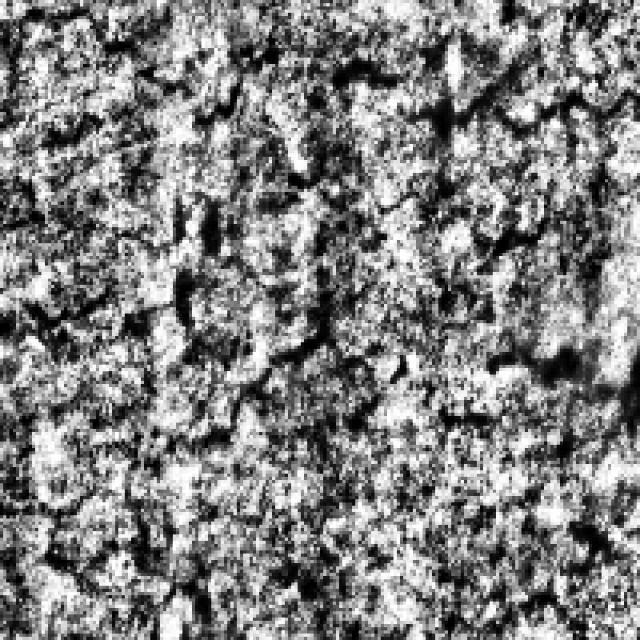Pitted_Surface: (3, 141, 579, 400), (6, 0, 637, 131), (269, 493, 605, 624), (400, 70, 618, 236)
